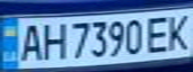0: (124, 16, 148, 56)
3: (87, 18, 109, 57)
7: (66, 19, 90, 60)
9: (106, 17, 127, 57)
A: (15, 21, 45, 62)
E: (142, 14, 172, 54)
H: (36, 19, 69, 61)
K: (163, 11, 193, 52)
